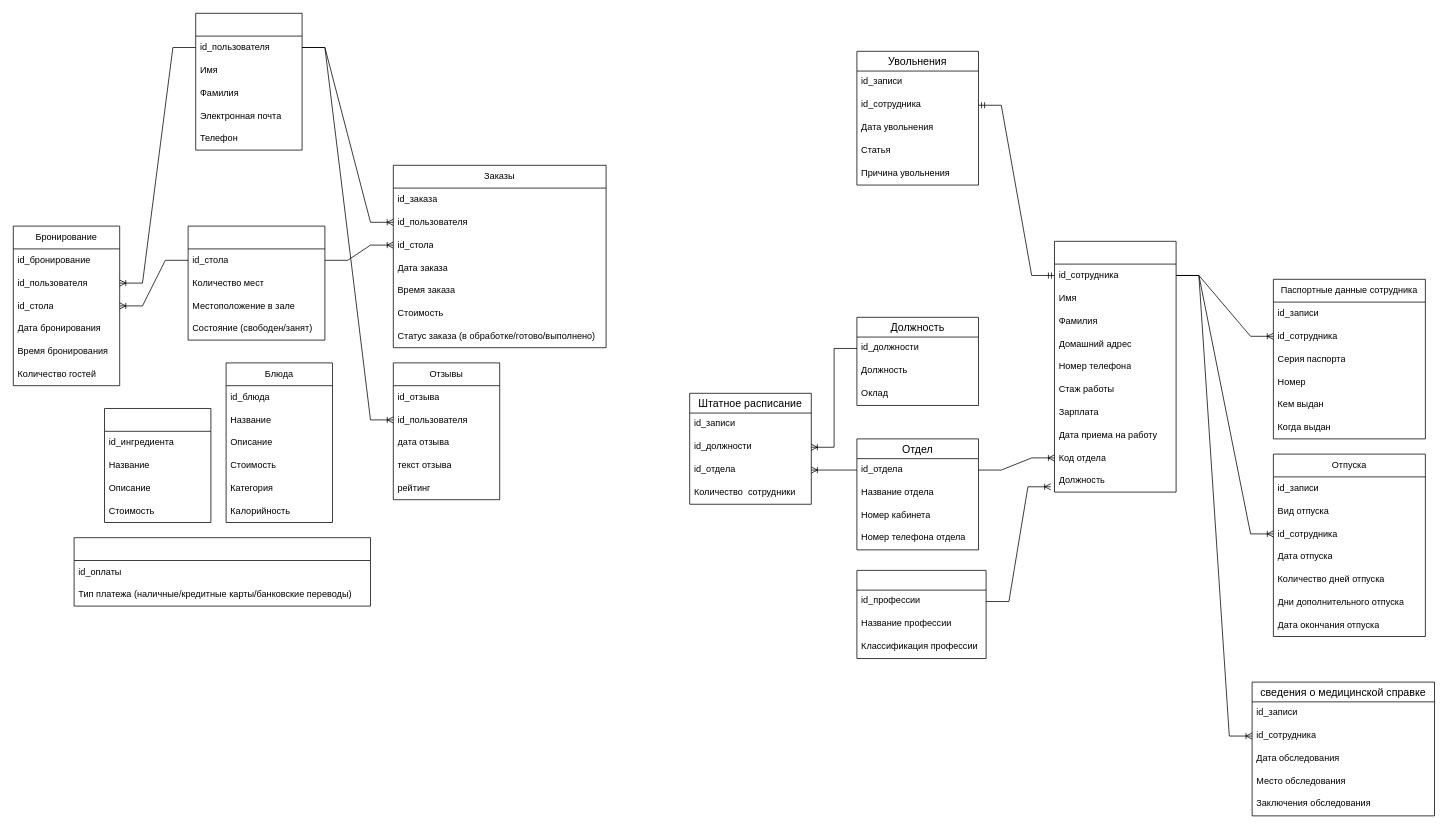
Image size: 1448x831. Some labels were removed from this diagram. The box of each missing label's shape, as (x1, y1, x2, y2) in pixels:
Ингредиенты: (104, 408, 211, 522)
Оплата: (73, 537, 370, 606)
Пользователи: (195, 13, 302, 150)
Сведения о профессии: (856, 570, 986, 659)
Сотрудники: (1054, 241, 1176, 492)
Столы: (187, 225, 325, 340)
